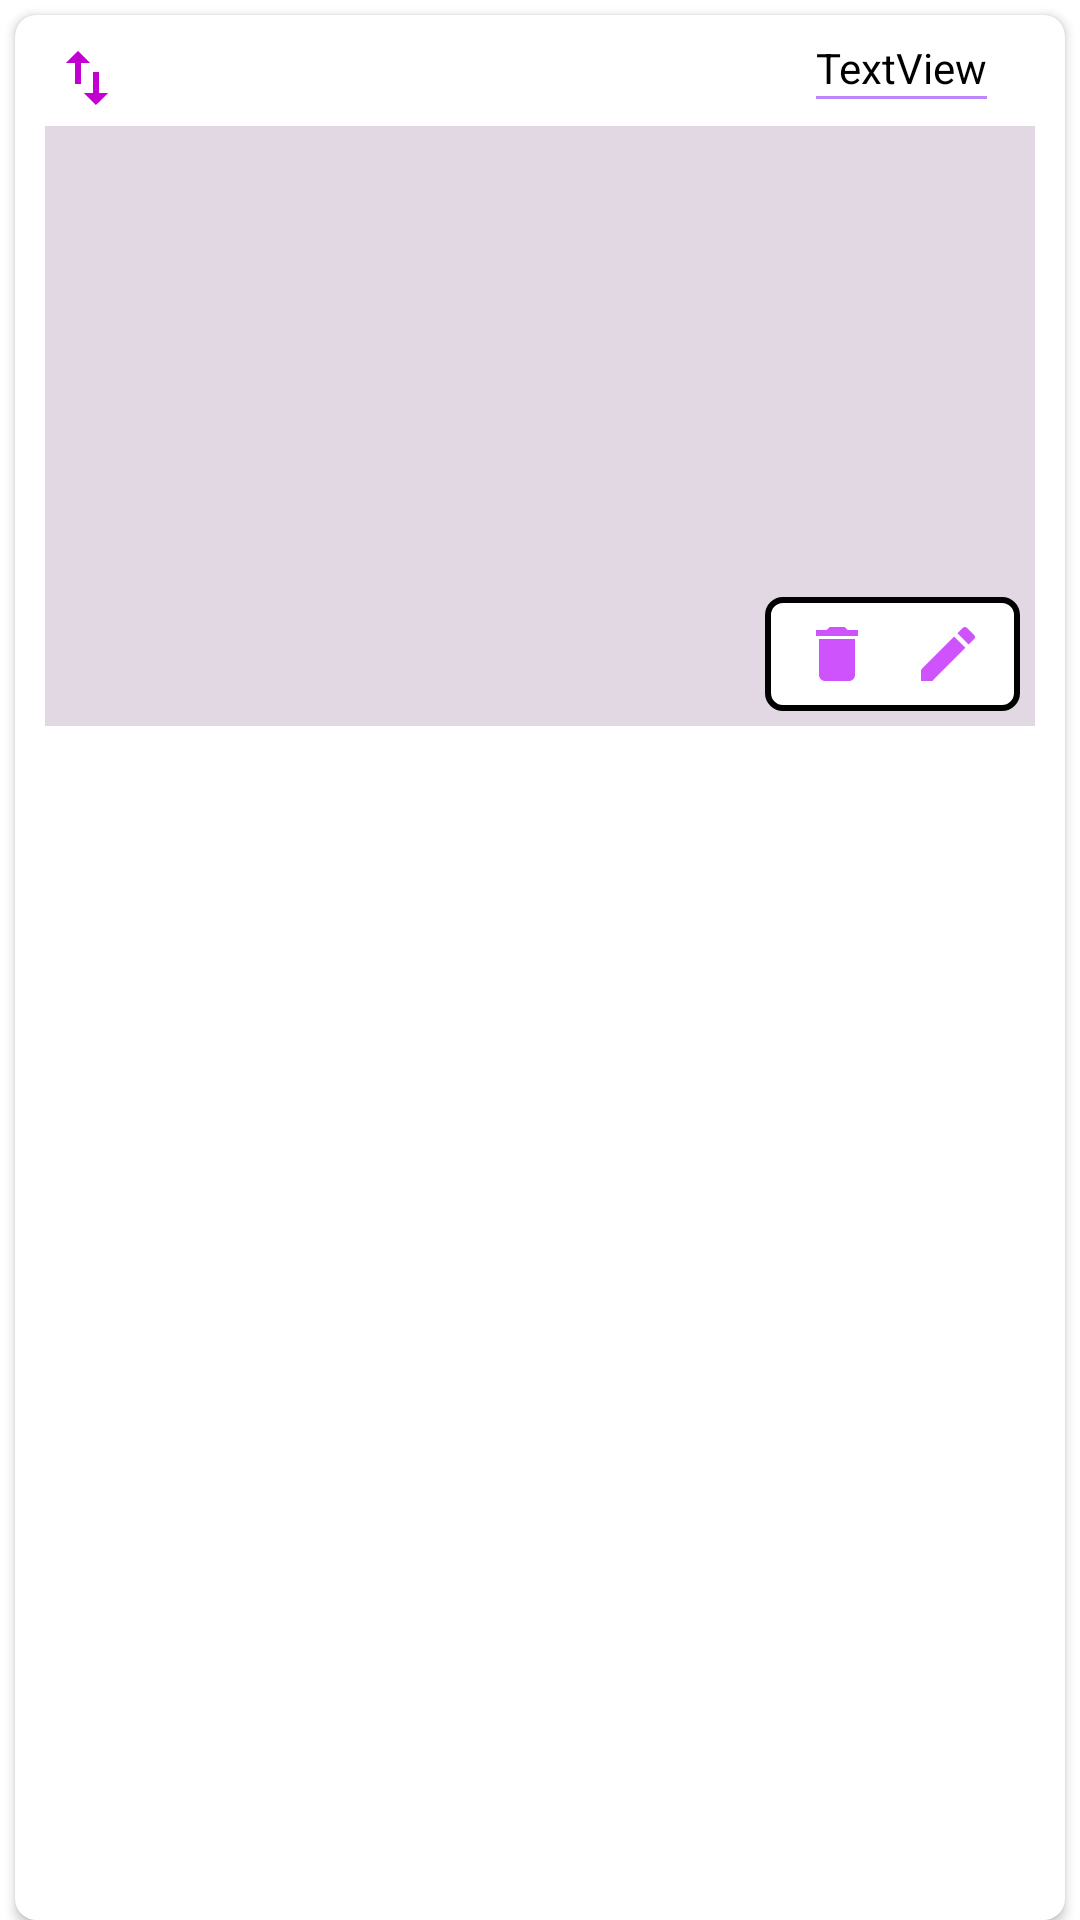

Icons on this 1080×1920 Android screen, each with the point to tap as [x,y]:
delete ad: [837,654]
edit ad: [948,654]
Вы можете перетащить в нужном порядке: [87,78]
